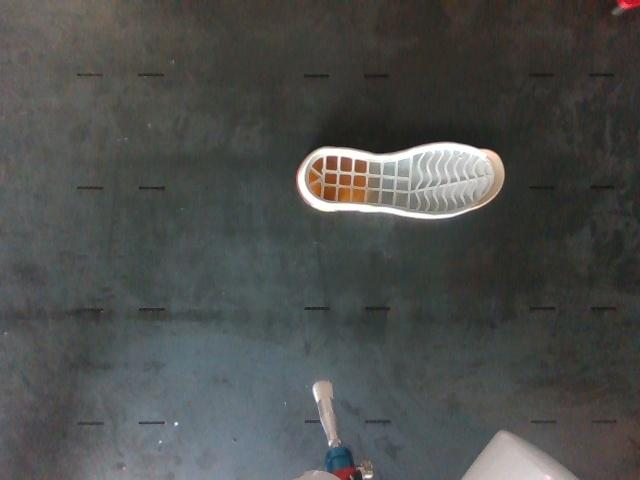shoes: (305, 144, 504, 214)
